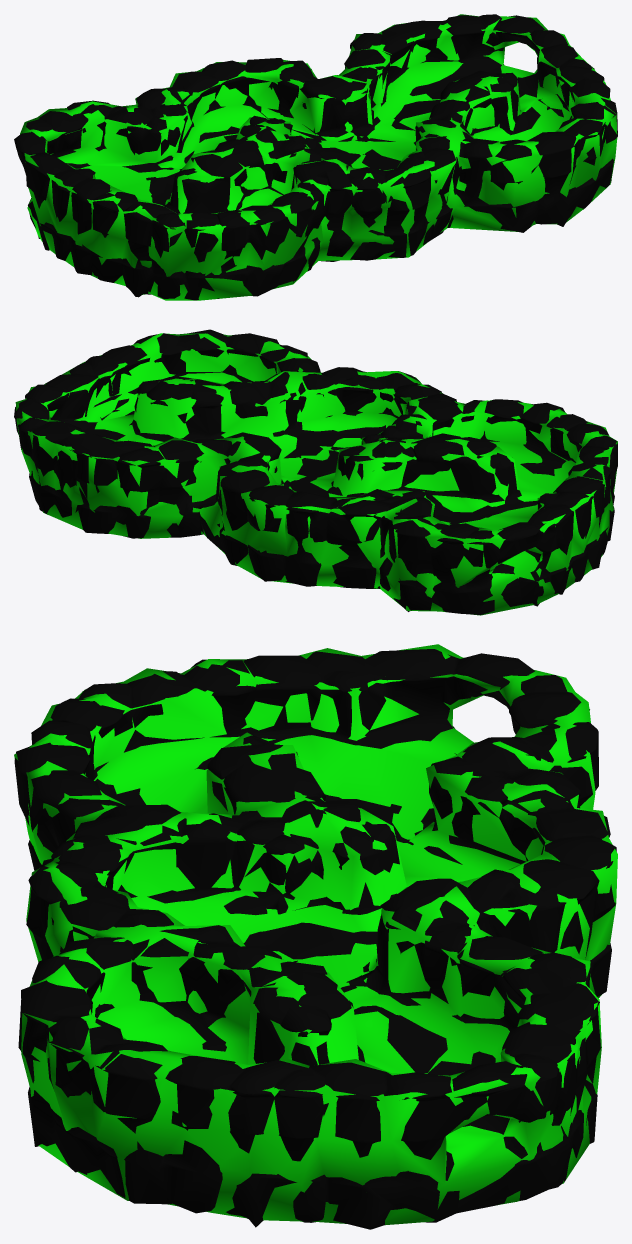
The model's file is ARGHMAaze1.fbx.
3 renders of one model, top to bottom at view 1: azimuth 30°, elevation 25°; view 2: azimuth 150°, elevation 25°; view 3: azimuth 270°, elevation 25°, orthographic. The views are drawn at different scales.
Visible parts, largest first — view 1: Trench2Low_LOD0, UTM_Trench2Low; view 2: Trench2Low_LOD0, UTM_Trench2Low; view 3: Trench2Low_LOD0, UTM_Trench2Low.
Part boxes in pixels (x1=…): Trench2Low_LOD0: x1=14, y1=14, x2=617, y2=300; UTM_Trench2Low: x1=20, y1=14, x2=617, y2=300; Trench2Low_LOD0: x1=14, y1=329, x2=617, y2=614; UTM_Trench2Low: x1=15, y1=333, x2=617, y2=615; Trench2Low_LOD0: x1=14, y1=649, x2=616, y2=1229; UTM_Trench2Low: x1=14, y1=644, x2=617, y2=1225.
Size of what is drawn, in the model's own units: 188 by 32.86 by 107.
